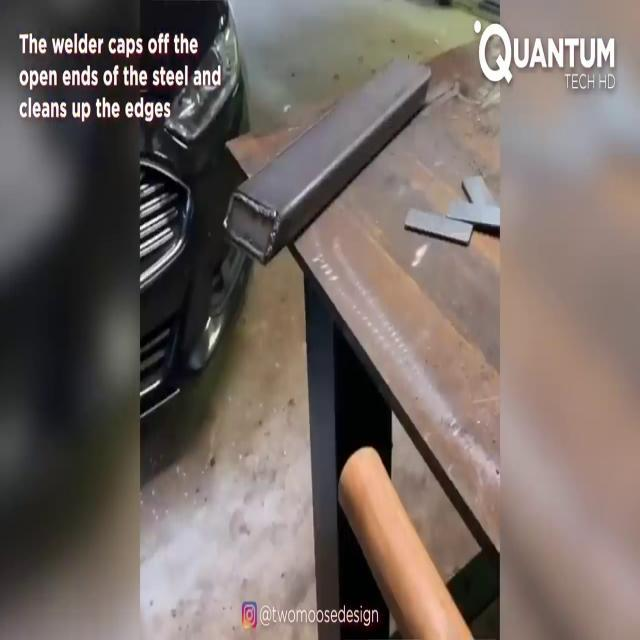Good Weld: (228, 195, 280, 258)
